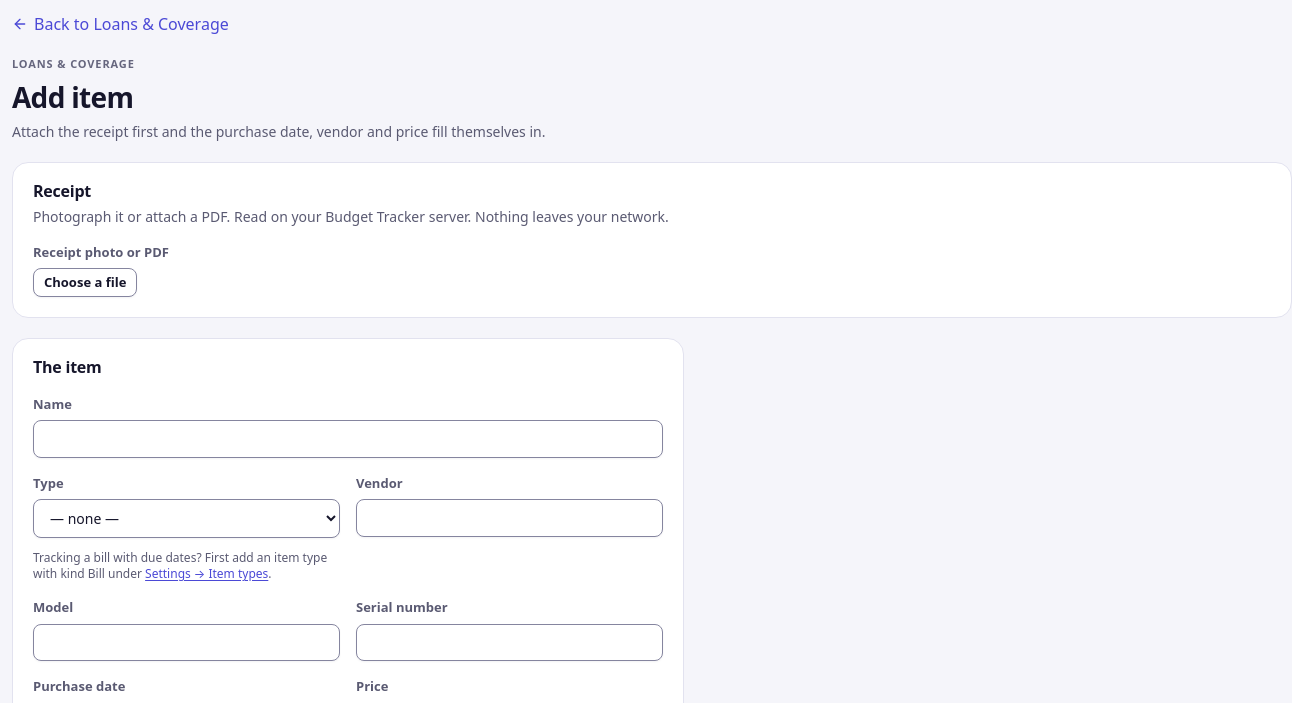
NewWarrantyClient › names the loan its own start date and payment amount in the header
Select "Car loan" in the dropdown named "typeId": [186, 519] box [33, 499, 340, 538]
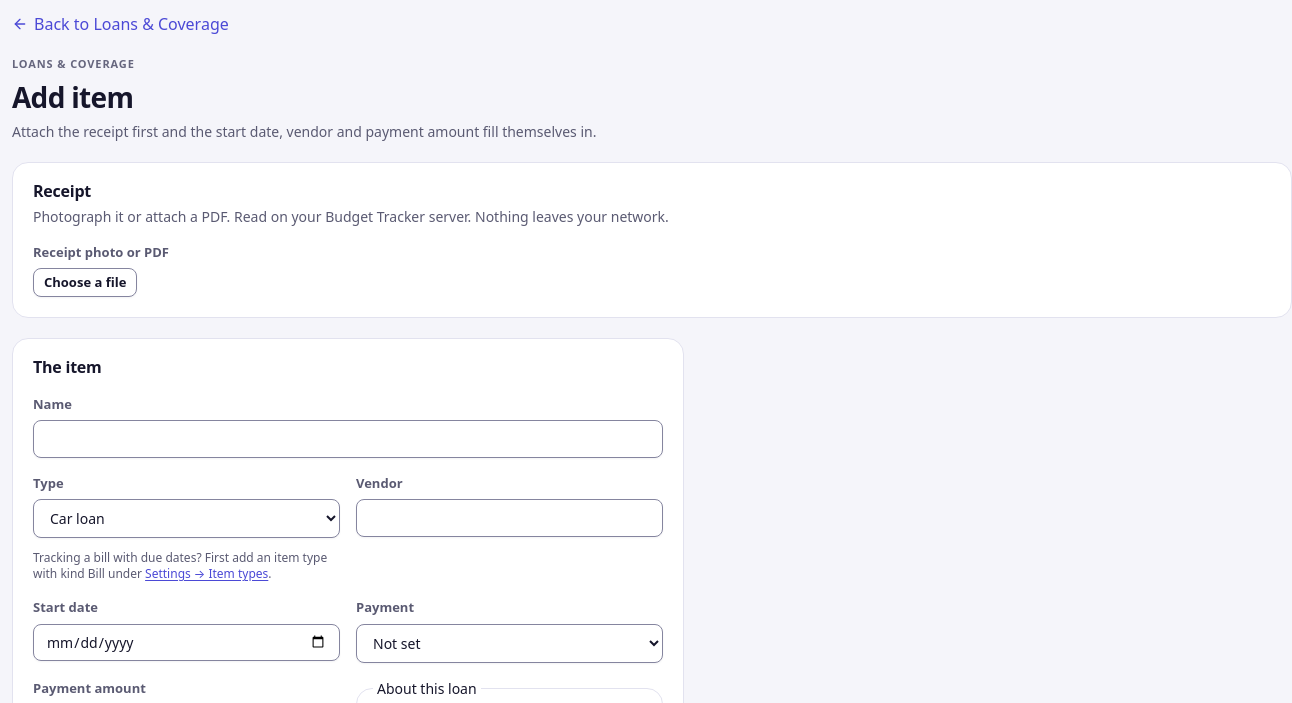
Check: the text "start date, vendor and payment amount fill themselves in." is shown, box [12, 122, 596, 141]
Check: the text "vendor and price" is gone
